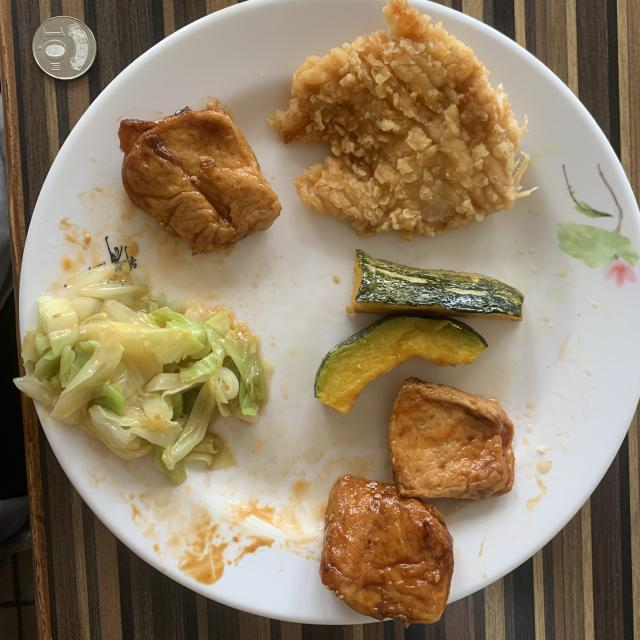cabbage: (15, 261, 268, 484)
coin: (32, 16, 96, 80)
creamy tofu: (320, 378, 515, 626), (119, 105, 281, 255)
fried chicken cutlet: (269, 0, 531, 240)
pumpkin: (315, 250, 524, 412)
